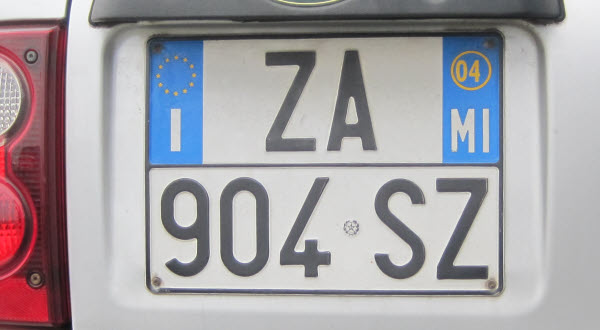license_plate: (145, 32, 506, 296)
